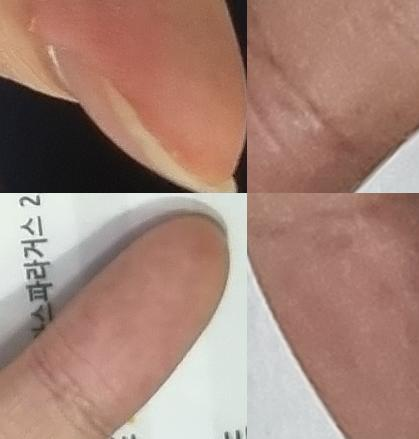Fingerprints: (33, 218, 229, 435), (247, 193, 419, 439), (30, 0, 247, 186), (247, 11, 379, 193)
